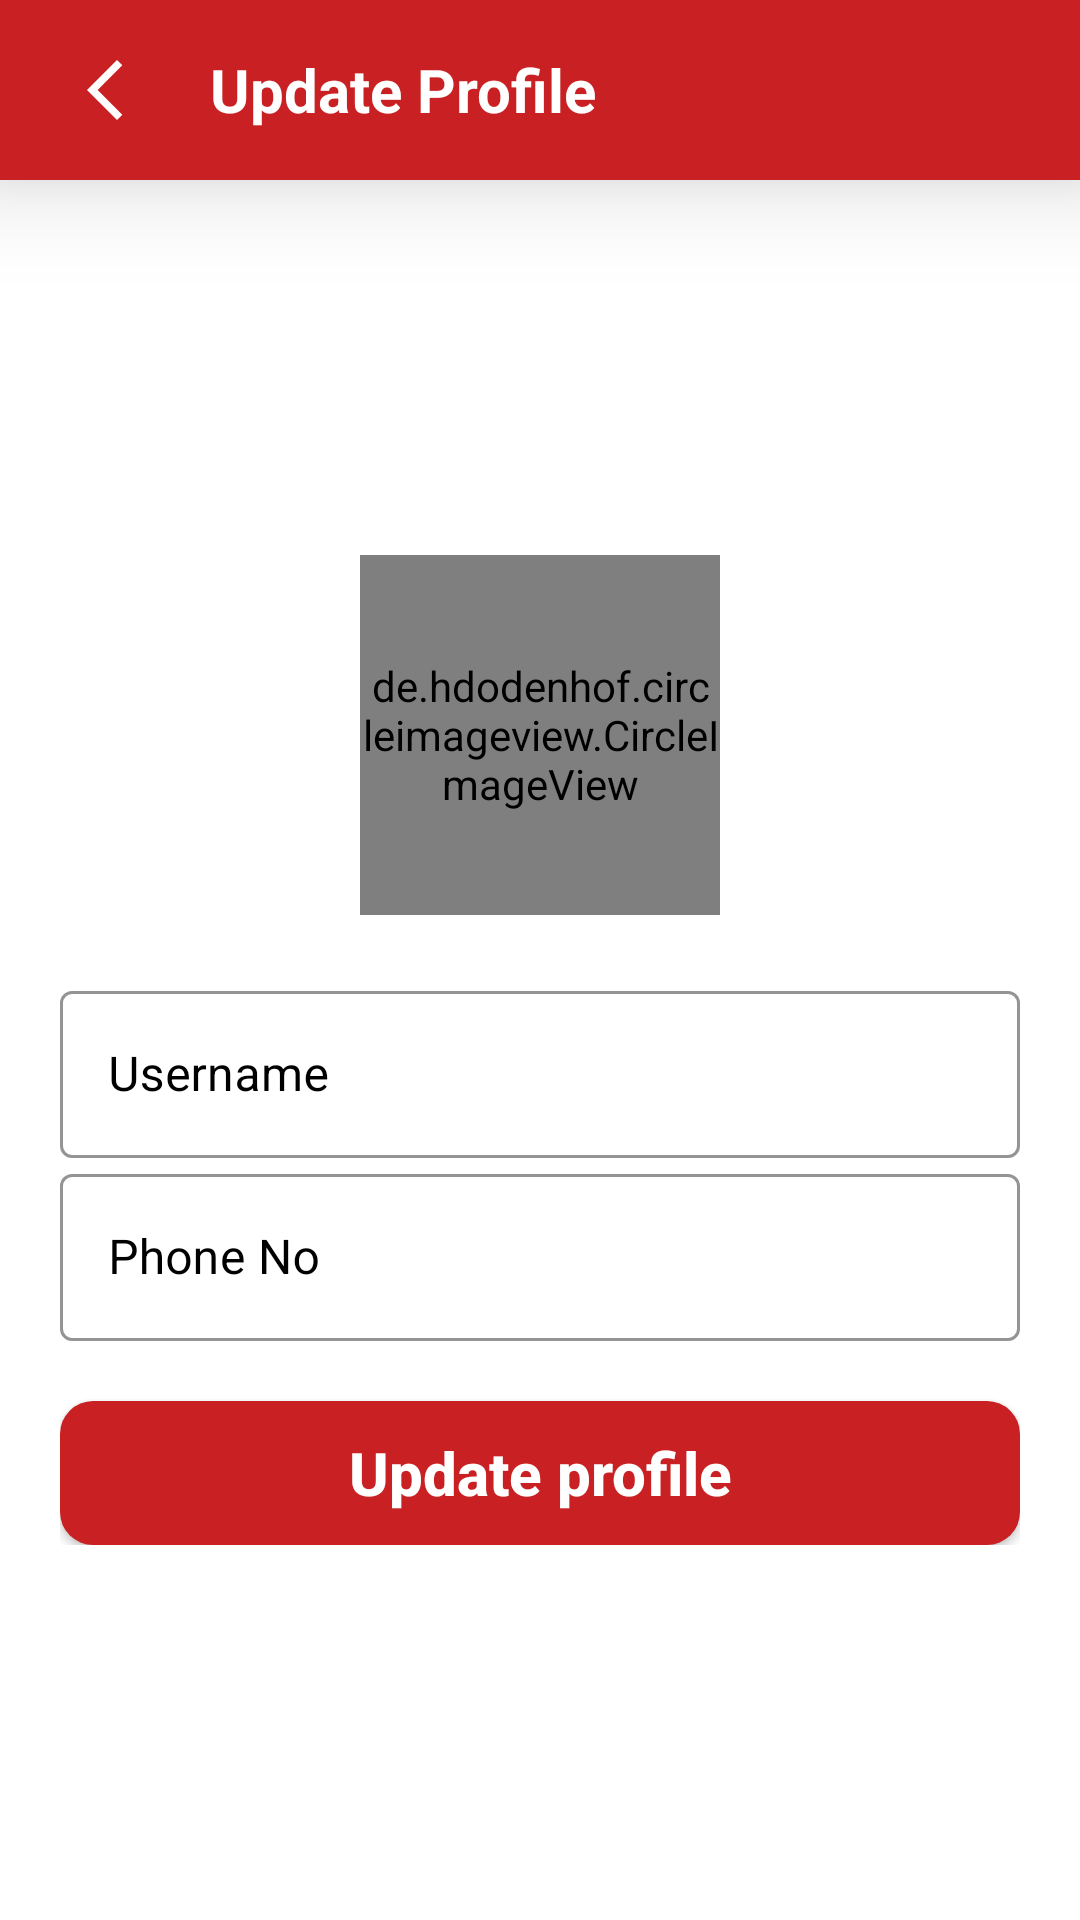

Screen size 1080px x 1920px. Icon name, then its center in pixels as (x=x, y=y):
arrow back: (x=104, y=90)
